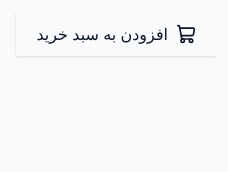
Test: AddToCartButton › shows a spinner and aria-busy while adding, then is ready again
Click the button "افزودن به سبد خرید": (116, 34) left=16, top=12, right=216, bottom=56
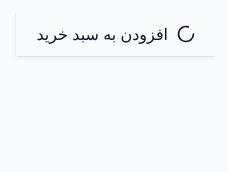
Result: the button "افزودن به سبد خرید" is disabled
Result: the icon with class "animate-spin" is shown at left=176, top=24, right=196, bottom=44
Click the button "افزودن به سبد خرید": (116, 34) left=16, top=12, right=216, bottom=56
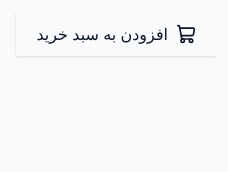
Result: the button "افزودن به سبد خرید" is enabled at left=16, top=12, right=216, bottom=56
Result: the icon with class "animate-spin" is gone
